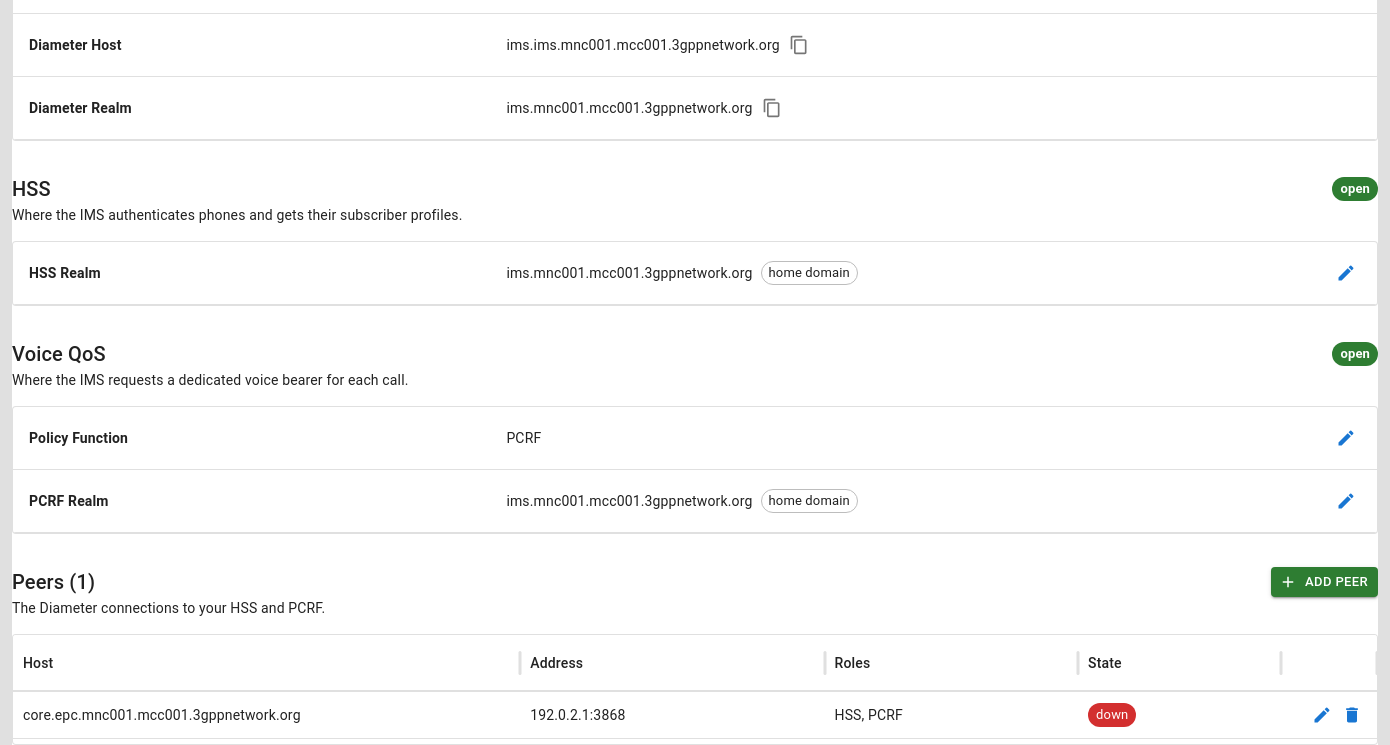
Test case: Cores › shows why a peer is down
The width and height of the screenshot is (1390, 745).
(page scrolled)
Hover over the text "down": (1112, 715) [1096,707,1128,722]
(page scrolled)
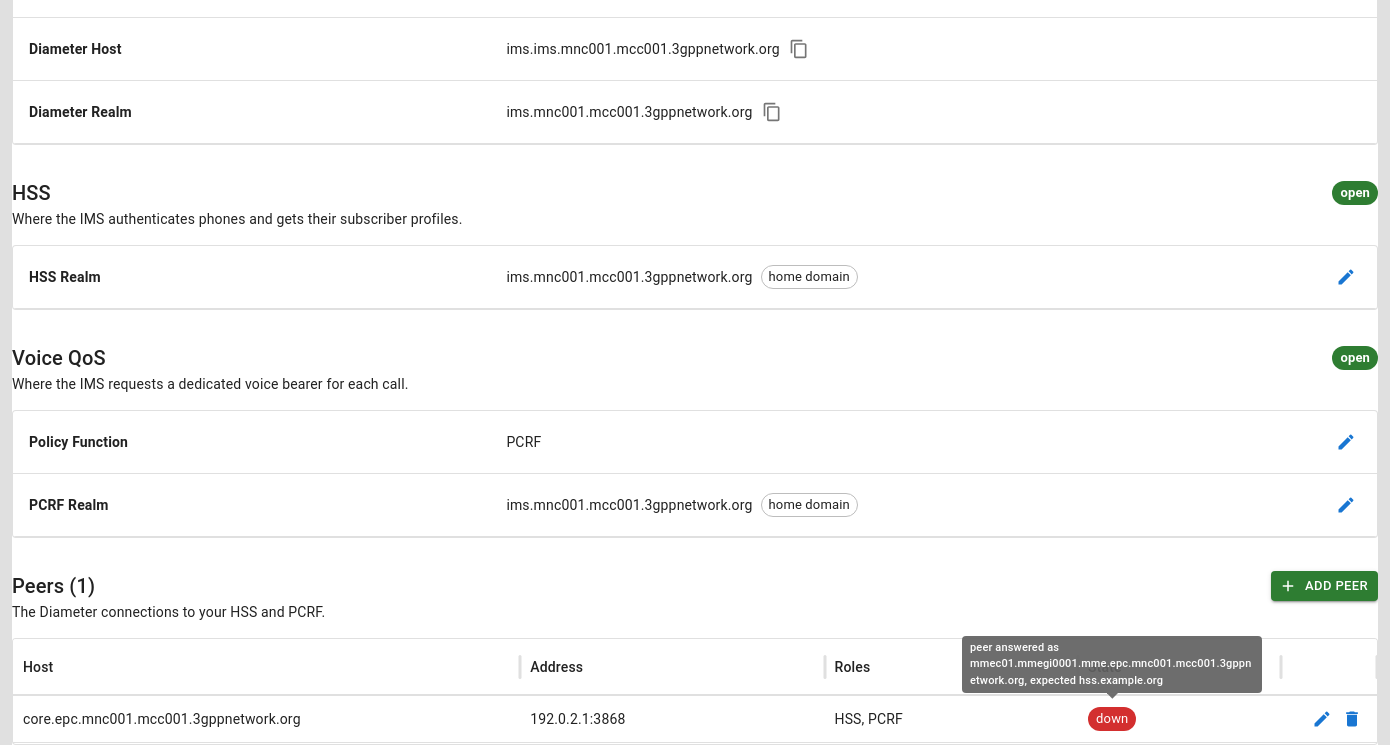
expect the tooltip shows "peer answered as mmec01.mmegi0001.mme.epc.mnc001.mcc001.3gppnetwork.org, expected hss.example.org": met, box [970,640,1252,686]
